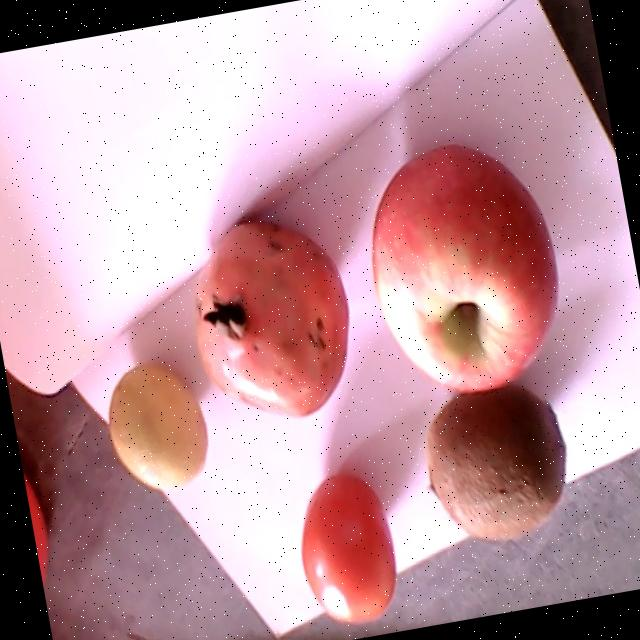apple: (371, 144, 556, 390)
kiwi: (426, 385, 565, 542)
lemon: (107, 365, 207, 490)
pomegranate: (194, 221, 347, 416)
tomato: (300, 474, 395, 625)
